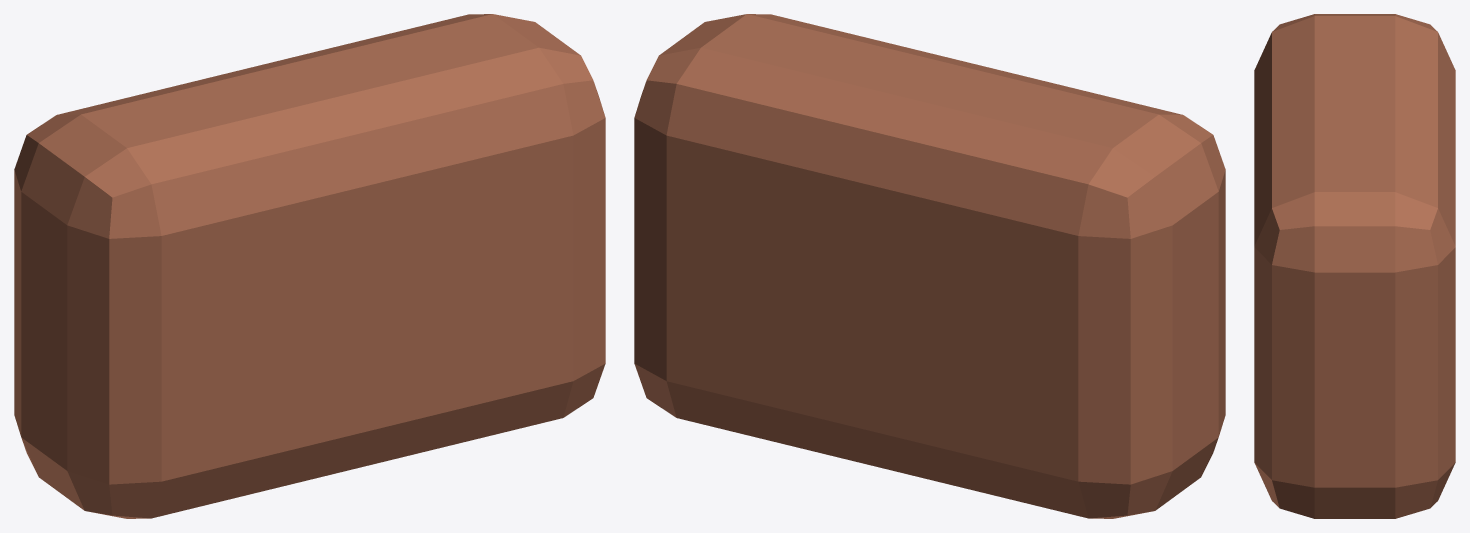
File: sit_stand_desk_lift_button.glb
3 renders of one model, left to right at view 1: azimuth 30°, elevation 25°; view 2: azimuth 150°, elevation 25°; view 3: azimuth 270°, elevation 25°, orthographic. The views are drawn at different scales.
Visible parts, largest first — view 1: export_tmp; view 2: export_tmp; view 3: export_tmp.
Part boxes in pixels (x1,y1,x2,y2): export_tmp: (14,14,605,518); export_tmp: (634,14,1225,518); export_tmp: (1254,14,1455,518).
Bounding box in the file's own units: 0.024 × 0.016 × 0.009.
